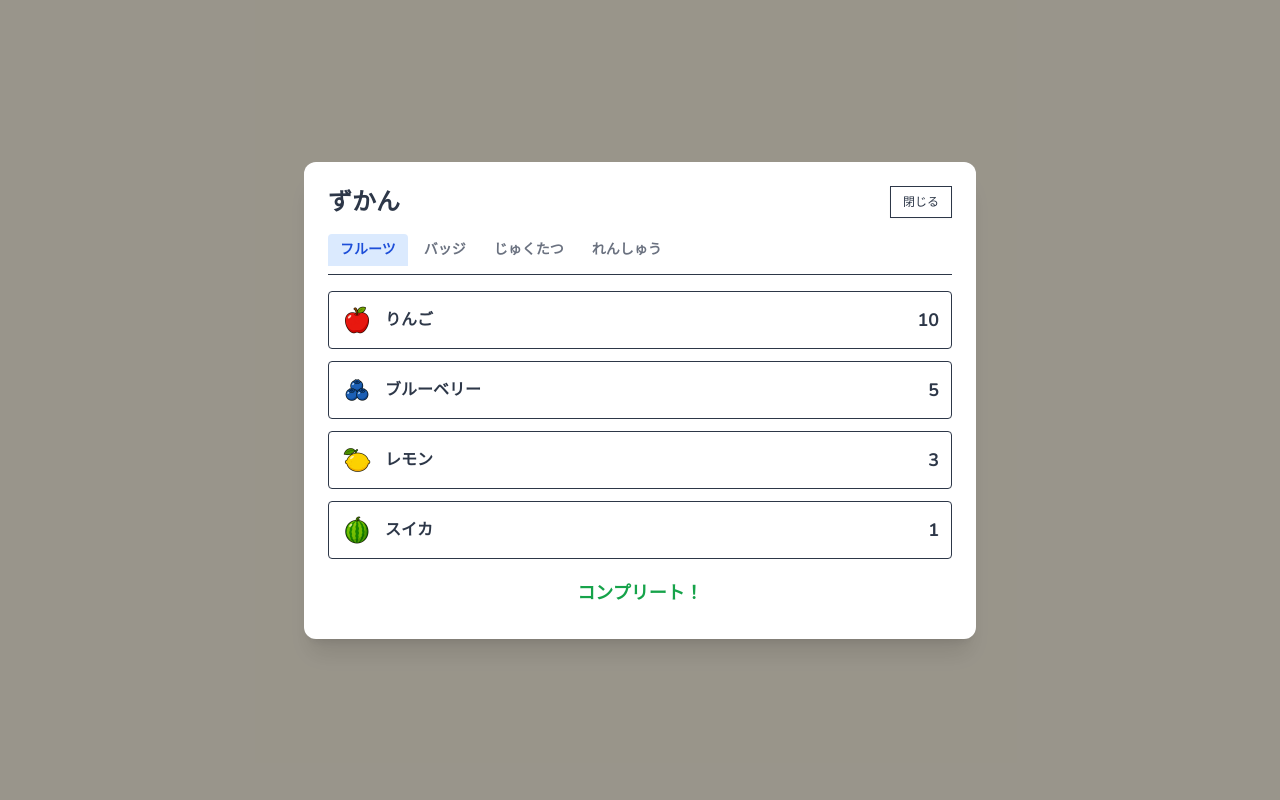
Scenario: CollectionModal (Task 12 / design §13) › AC-9.4: じゅくたつタブに4操作のレベルと累計成功（current）が表示される
This screenshot has width=1280, height=800.
Click the tab with test id "collection-tab-mastery". click: [529, 250]
box: [482,234,576,266]
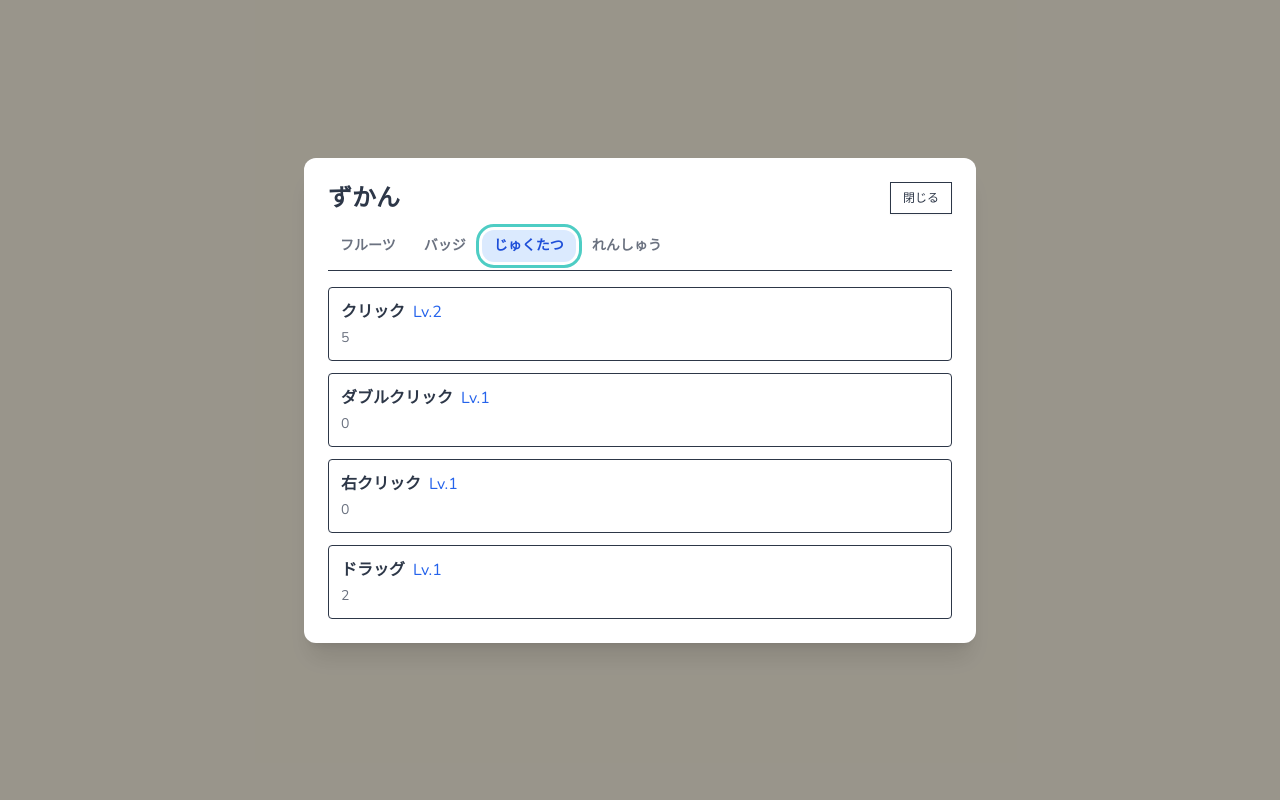
Expected: the text with test id "collection-mastery-current-click" reads "5", [341,328,349,346]
Expected: the text with test id "collection-mastery-level-click" reads "Lv.2", [413,300,442,324]
Expected: the element with test id "collection-mastery-rightClick" is shown, [328,458,952,532]
